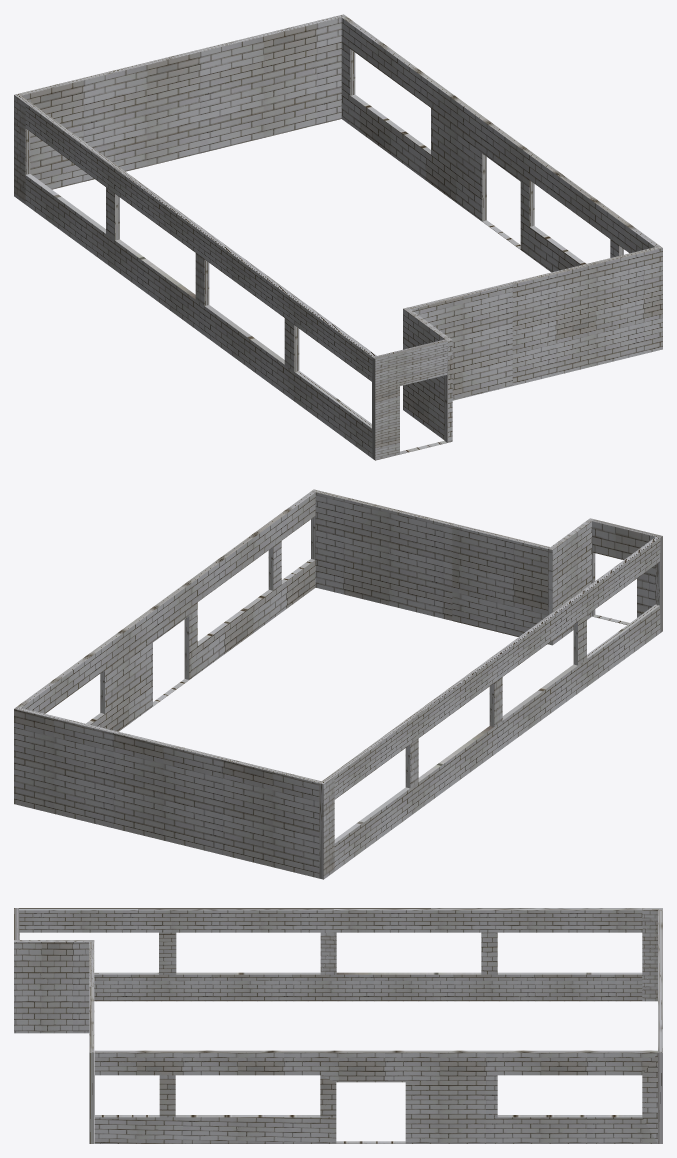
Rendered from Paredes.obj.
3 renders of one model, top to bottom at view 1: azimuth 30°, elevation 25°; view 2: azimuth 150°, elevation 25°; view 3: azimuth 270°, elevation 25°, orthographic. The views are drawn at different scales.
Visible parts, largest first — view 1: Plane.017; view 2: Plane.017; view 3: Plane.017.
Part boxes in pixels (x1,y1,x2,y2): Plane.017: (14,14,662,460); Plane.017: (14,489,662,879); Plane.017: (14,908,662,1143).
Size of the model in its own units: 34 by 10 by 64.5.
Materials: 1 (1 with a texture image).
